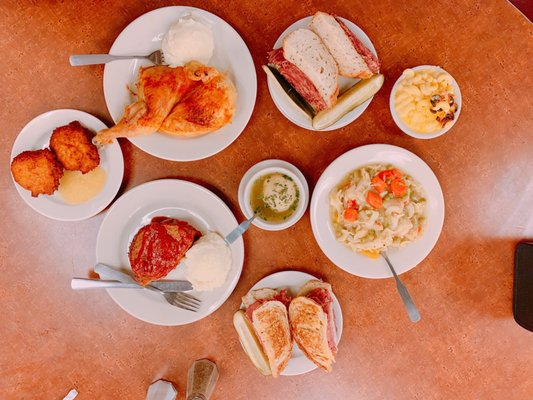burger: (380, 249, 422, 323)
pizza: (237, 158, 309, 236)
salad: (380, 250, 421, 323)
soup: (273, 25, 341, 114), (309, 13, 381, 80), (241, 299, 295, 376), (289, 297, 335, 373)
sushi: (308, 144, 445, 279), (389, 65, 463, 140), (237, 159, 310, 234)
